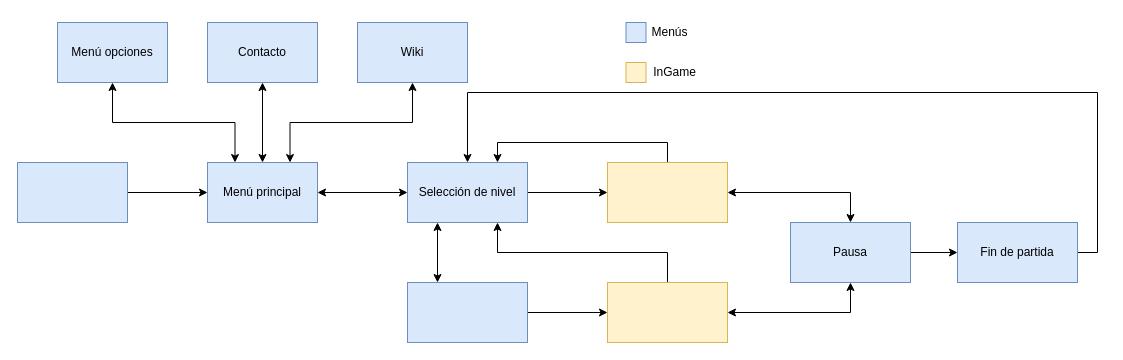
The diagram is 1123 pixels wide and 360 high, and some of its shapes have lost their labels. The shapes that lost their labels are listed below. From the top down, each one's centre as x and y in pixels, then its label:
At pixel 72 192: "Registro".
At pixel 667 192: "Pantalla de Juego".
At pixel 467 312: "Ajustes modo de juego infinito".
At pixel 667 312: "Pantalla de Juego Infinito".
